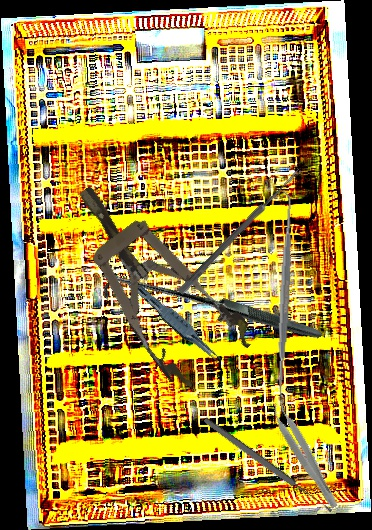Hook Surgical: (99, 199, 323, 425)
Spatula Surgical: (267, 190, 302, 399)
Speculum: (46, 159, 260, 398)
Surgical Spoon: (177, 166, 303, 296), (202, 416, 334, 515)
Tissue Forceps: (121, 276, 228, 367), (266, 397, 346, 512)
